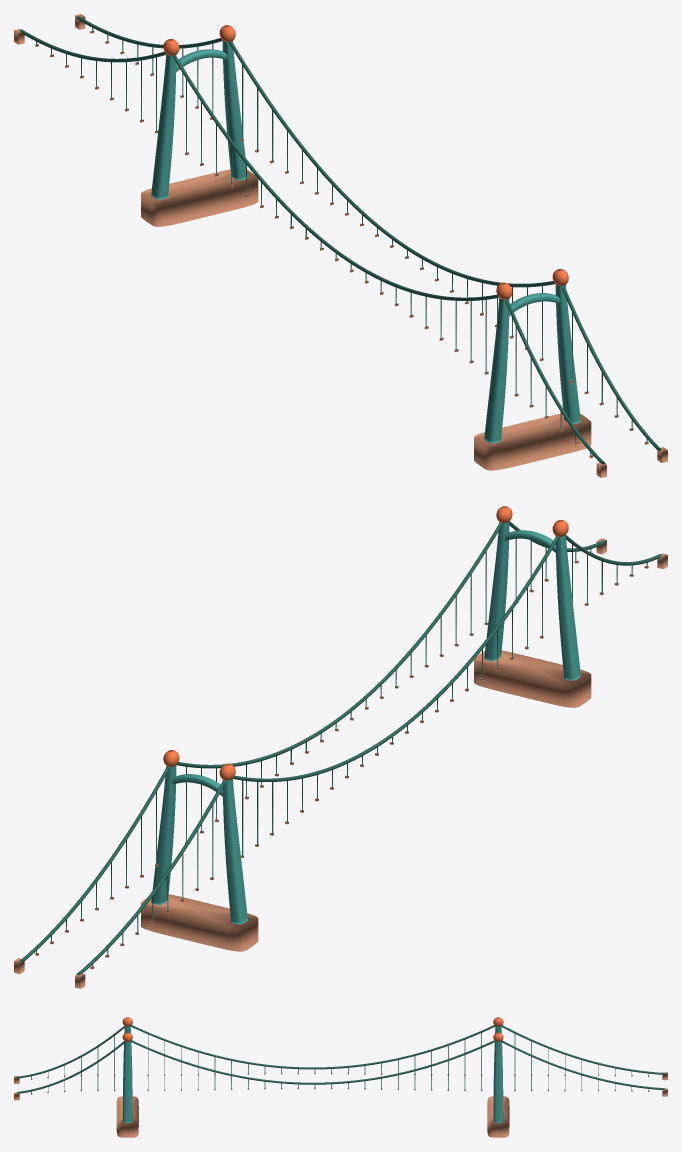
Rendered from sc01_bridge_shell_narrow_fixture.glb.
3 renders of one model, top to bottom at view 1: azimuth 30°, elevation 25°; view 2: azimuth 150°, elevation 25°; view 3: azimuth 270°, elevation 25°, orthographic. The views are drawn at different scales.
Parts seen in each view (by area): view 1: SC01_NARROW_plinth_W, SC01_NARROW_plinth_E, SC01_NARROW_cable_L, SC01_NARROW_cable_R, SC01_NARROW_pylon_W_L, SC01_NARROW_pylon_E_L, SC01_NARROW_pylon_E_R, SC01_NARROW_pylon_W_R, SC01_NARROW_hangers_L, SC01_NARROW_hangers_R; view 2: SC01_NARROW_plinth_E, SC01_NARROW_plinth_W, SC01_NARROW_cable_L, SC01_NARROW_cable_R, SC01_NARROW_pylon_E_L, SC01_NARROW_pylon_W_L, SC01_NARROW_pylon_E_R, SC01_NARROW_pylon_W_R, SC01_NARROW_hangers_L, SC01_NARROW_hangers_R; view 3: SC01_NARROW_cable_L, SC01_NARROW_cable_R, SC01_NARROW_hangers_R, SC01_NARROW_pylon_W_R, SC01_NARROW_pylon_E_R, SC01_NARROW_plinth_E, SC01_NARROW_plinth_W, SC01_NARROW_hangers_L.
Boxes of the visible parts, x1=… form: SC01_NARROW_plinth_W: x1=141, y1=169, x2=258, y2=226; SC01_NARROW_plinth_E: x1=474, y1=413, x2=591, y2=470; SC01_NARROW_cable_L: x1=20, y1=29, x2=605, y2=464; SC01_NARROW_cable_R: x1=76, y1=15, x2=661, y2=451; SC01_NARROW_pylon_W_L: x1=151, y1=54, x2=176, y2=199; SC01_NARROW_pylon_E_L: x1=484, y1=298, x2=509, y2=443; SC01_NARROW_pylon_E_R: x1=555, y1=284, x2=580, y2=423; SC01_NARROW_pylon_W_R: x1=222, y1=40, x2=247, y2=180; SC01_NARROW_hangers_L: x1=36, y1=41, x2=591, y2=455; SC01_NARROW_hangers_R: x1=92, y1=28, x2=647, y2=442; SC01_NARROW_plinth_E: x1=474, y1=650, x2=591, y2=707; SC01_NARROW_plinth_W: x1=141, y1=894, x2=258, y2=951; SC01_NARROW_cable_L: x1=76, y1=535, x2=661, y2=975; SC01_NARROW_cable_R: x1=20, y1=521, x2=605, y2=962; SC01_NARROW_pylon_E_L: x1=555, y1=535, x2=580, y2=680; SC01_NARROW_pylon_W_L: x1=222, y1=779, x2=247, y2=924; SC01_NARROW_pylon_E_R: x1=484, y1=521, x2=509, y2=661; SC01_NARROW_pylon_W_R: x1=151, y1=765, x2=176, y2=904; SC01_NARROW_hangers_L: x1=92, y1=544, x2=647, y2=967; SC01_NARROW_hangers_R: x1=36, y1=538, x2=591, y2=953; SC01_NARROW_cable_L: x1=16, y1=1025, x2=665, y2=1078; SC01_NARROW_cable_R: x1=16, y1=1040, x2=665, y2=1093; SC01_NARROW_hangers_R: x1=31, y1=1048, x2=648, y2=1093; SC01_NARROW_pylon_W_R: x1=493, y1=1041, x2=503, y2=1123; SC01_NARROW_pylon_E_R: x1=123, y1=1041, x2=132, y2=1123; SC01_NARROW_plinth_E: x1=116, y1=1096, x2=138, y2=1137; SC01_NARROW_plinth_W: x1=487, y1=1096, x2=509, y2=1137; SC01_NARROW_hangers_L: x1=31, y1=1033, x2=648, y2=1078.
Size of the model in its own units: 36.72 by 58.3 by 353.
